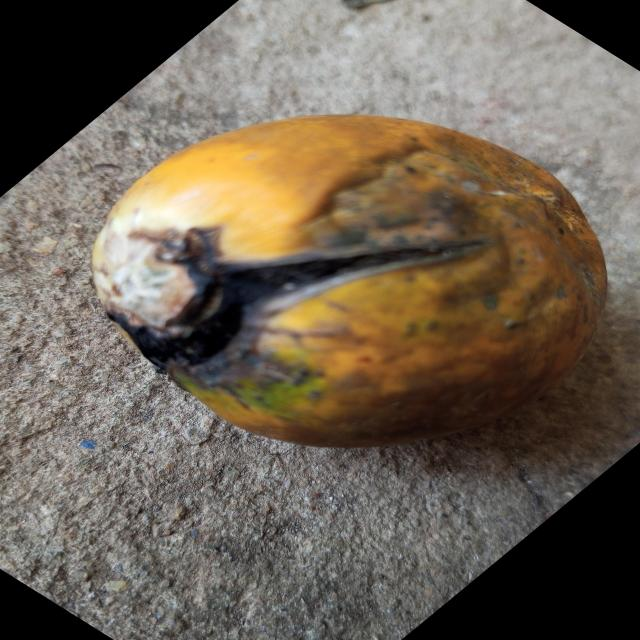damaged: (88, 113, 608, 451)
